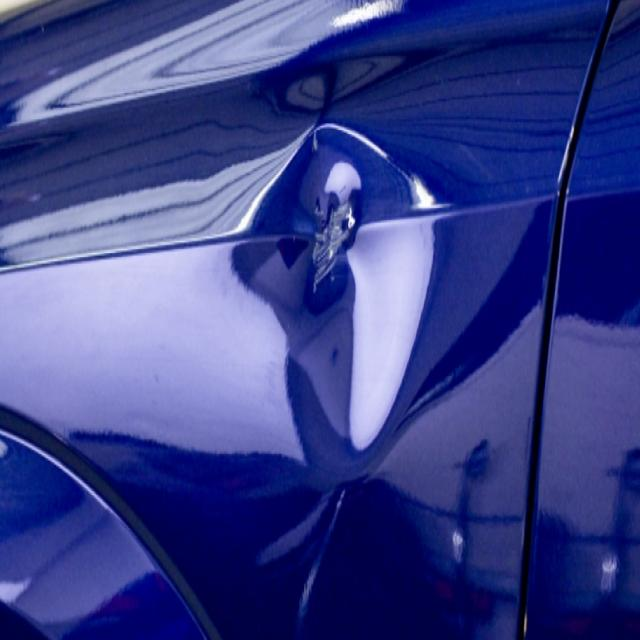dents: (236, 122, 457, 414)
